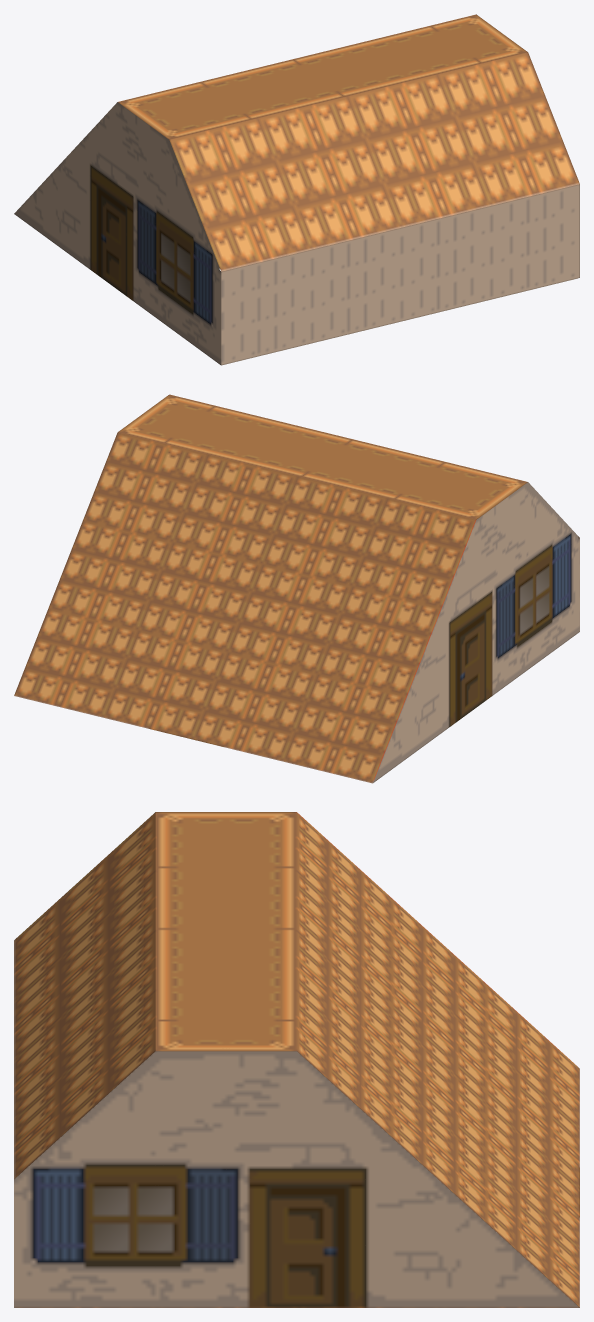
File: CasaTeste.fbx
The picture shows the model from 3 angles, top to bottom: view 1: azimuth 30°, elevation 25°; view 2: azimuth 150°, elevation 25°; view 3: azimuth 270°, elevation 25°; orthographic projection. The views are drawn at different scales.
Parts seen in each view (by area): view 1: pCube6; view 2: pCube6; view 3: pCube6.
Boxes of the visible parts, left/top/right/bottom form: pCube6: left=14, top=14, right=579, bottom=365; pCube6: left=14, top=394, right=579, bottom=783; pCube6: left=14, top=812, right=579, bottom=1307.
Size of the model in its own units: 400 by 200 by 400.
